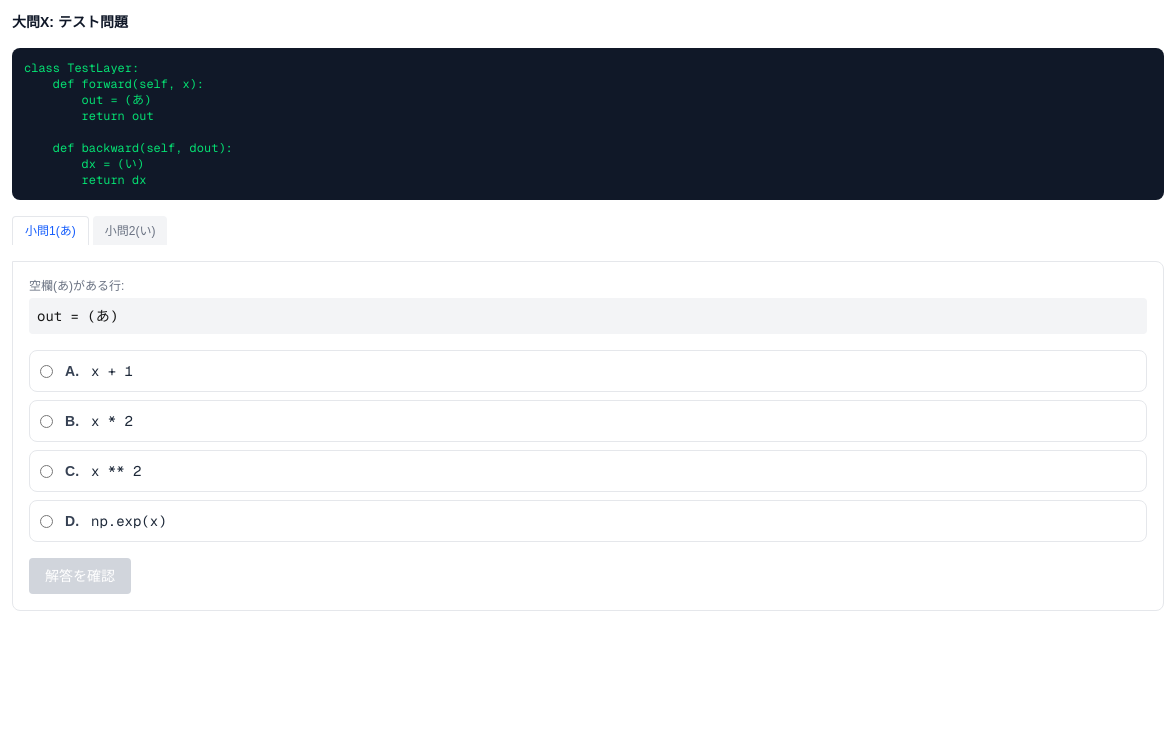
Test: ExamCodeProblem › 選択後にボタンが有効化される
The width and height of the screenshot is (1164, 732).
Click the radio button labelled "A. x + 1". click: (46, 371)
box: [40, 364, 53, 378]
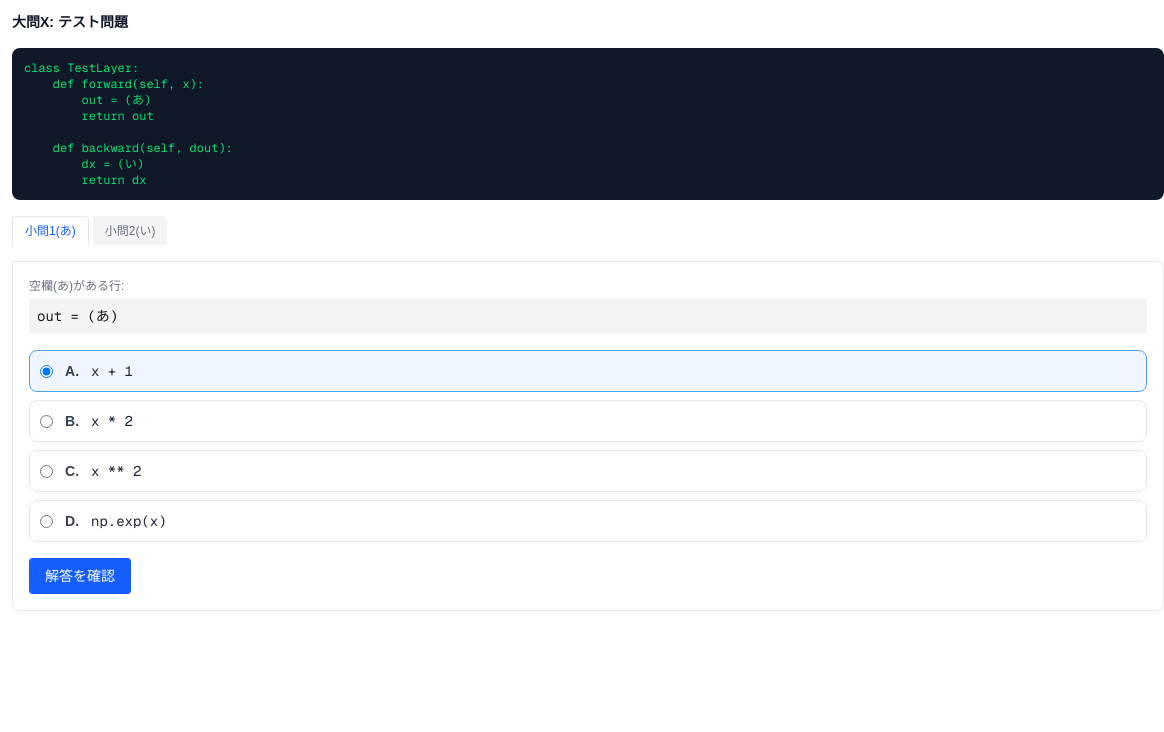
Expected: the button "解答を確認" is enabled, [29, 558, 131, 594]
